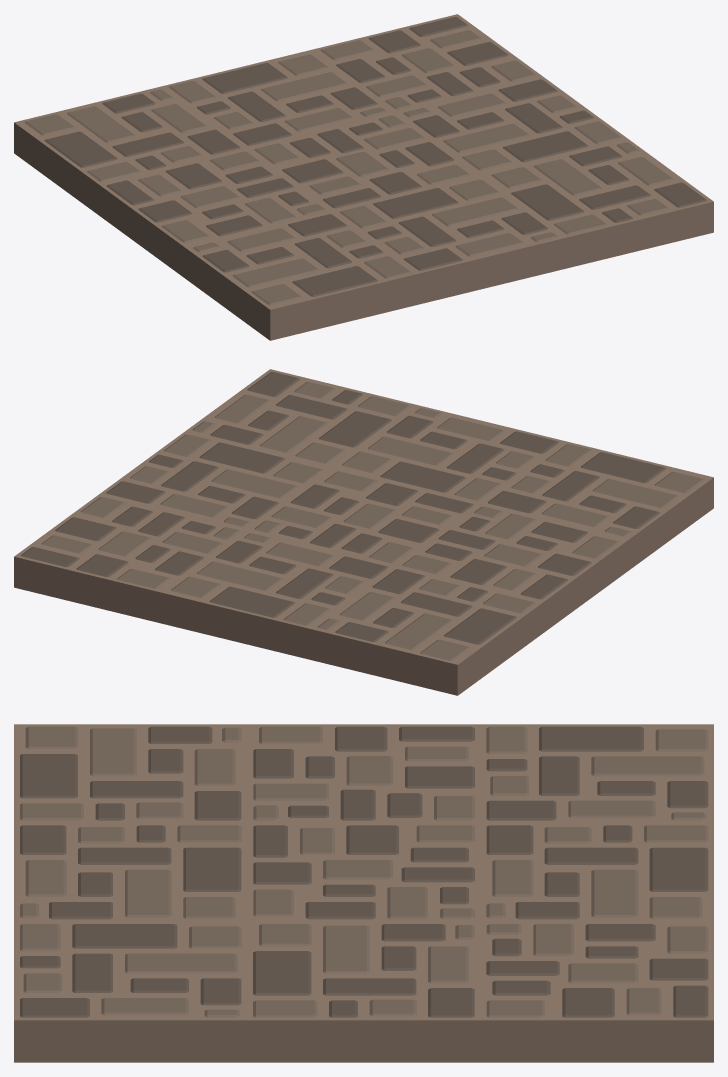
Rendered from square 1.fbx.
3 views of the same model, one above another, from view 1: azimuth 30°, elevation 25°; view 2: azimuth 150°, elevation 25°; view 3: azimuth 270°, elevation 25° (orthographic). The views are drawn at different scales.
Visible parts, largest first — view 1: Stone_Floor_2_12, Stone_Floor_2_13, Stone_Floor_2_20, Stone_Floor_2_19, Stone_Floor_1_18, Stone_Floor_1_14, Stone_Floor_2_15, Stone_Floor_2_16, Stone_Floor_1_17; view 2: Stone_Floor_2_19, Stone_Floor_2_15, Stone_Floor_1_17, Stone_Floor_2_12, Stone_Floor_1_18, Stone_Floor_1_14, Stone_Floor_2_13, Stone_Floor_2_16, Stone_Floor_2_20; view 3: Stone_Floor_2_16, Stone_Floor_1_17, Stone_Floor_2_20, Stone_Floor_2_12, Stone_Floor_2_13, Stone_Floor_1_14, Stone_Floor_2_15, Stone_Floor_1_18, Stone_Floor_2_19.
Part boxes in pixels (left/top/right/bottom): Stone_Floor_2_12: left=184, top=211, right=417, bottom=340; Stone_Floor_2_13: left=333, top=175, right=565, bottom=304; Stone_Floor_2_20: left=481, top=139, right=713, bottom=268; Stone_Floor_2_19: left=14, top=86, right=246, bottom=215; Stone_Floor_1_18: left=99, top=149, right=332, bottom=277; Stone_Floor_1_14: left=247, top=113, right=480, bottom=210; Stone_Floor_2_15: left=162, top=50, right=394, bottom=148; Stone_Floor_2_16: left=395, top=76, right=627, bottom=174; Stone_Floor_1_17: left=310, top=14, right=542, bottom=112; Stone_Floor_2_19: left=310, top=566, right=543, bottom=695; Stone_Floor_2_15: left=162, top=530, right=394, bottom=659; Stone_Floor_1_17: left=14, top=494, right=246, bottom=623; Stone_Floor_2_12: left=481, top=441, right=713, bottom=570; Stone_Floor_1_18: left=395, top=504, right=628, bottom=632; Stone_Floor_1_14: left=247, top=468, right=480, bottom=565; Stone_Floor_2_13: left=333, top=405, right=565, bottom=503; Stone_Floor_2_16: left=100, top=431, right=332, bottom=529; Stone_Floor_2_20: left=185, top=369, right=417, bottom=467; Stone_Floor_2_16: left=247, top=921, right=480, bottom=1062; Stone_Floor_1_17: left=480, top=921, right=713, bottom=1062; Stone_Floor_2_20: left=14, top=921, right=247, bottom=1062; Stone_Floor_2_12: left=14, top=724, right=247, bottom=822; Stone_Floor_2_13: left=14, top=823, right=247, bottom=921; Stone_Floor_1_14: left=247, top=823, right=480, bottom=921; Stone_Floor_2_15: left=480, top=823, right=713, bottom=921; Stone_Floor_1_18: left=247, top=724, right=480, bottom=822; Stone_Floor_2_19: left=480, top=724, right=713, bottom=822.
Size of the model in its own units: 30 by 2.06 by 30.
